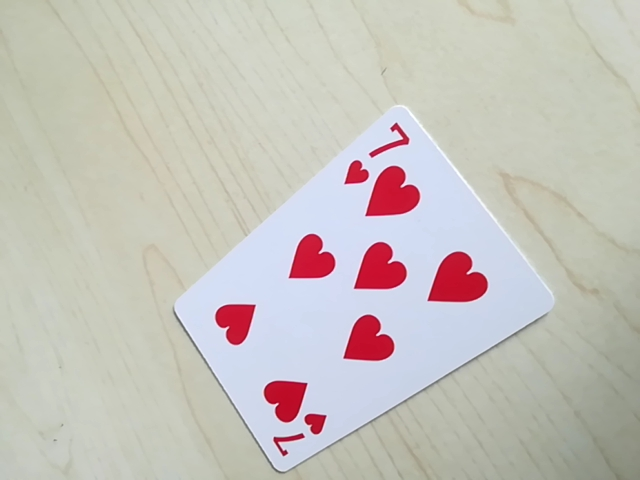hx 7: (346, 118, 414, 177), (261, 419, 330, 465)
